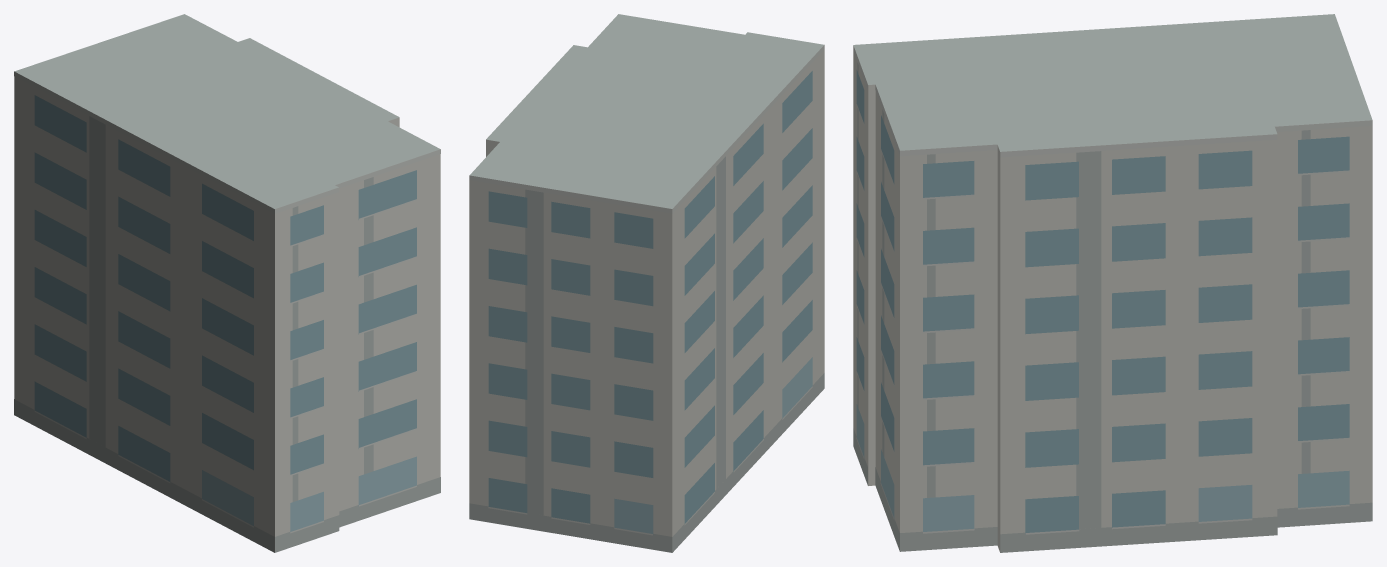
The model's file is survey-upis-33026897.glb.
3 views of the same model, side by side, from view 1: azimuth 30°, elevation 25°; view 2: azimuth 150°, elevation 25°; view 3: azimuth 270°, elevation 25° (orthographic). The views are drawn at different scales.
Visible parts, largest first — view 1: survey-upis-33026897.tmp; view 2: survey-upis-33026897.tmp; view 3: survey-upis-33026897.tmp.
Boxes of the visible parts, box(x1,y1,x2,y2) form: survey-upis-33026897.tmp: box(14, 14, 440, 552); survey-upis-33026897.tmp: box(469, 14, 824, 552); survey-upis-33026897.tmp: box(853, 14, 1372, 552).
Bounding box in the file's own units: 12.77 × 17.3 × 20.32.
